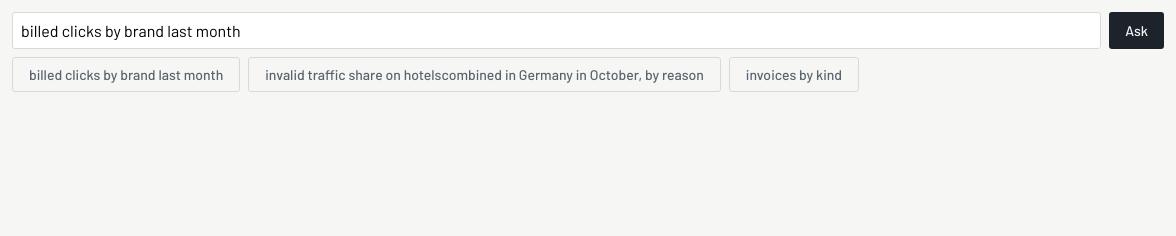
Test: an offline service shows how to start it
Click the button "Ask". click: (1137, 30)
box: 1109,12 -> 1164,49
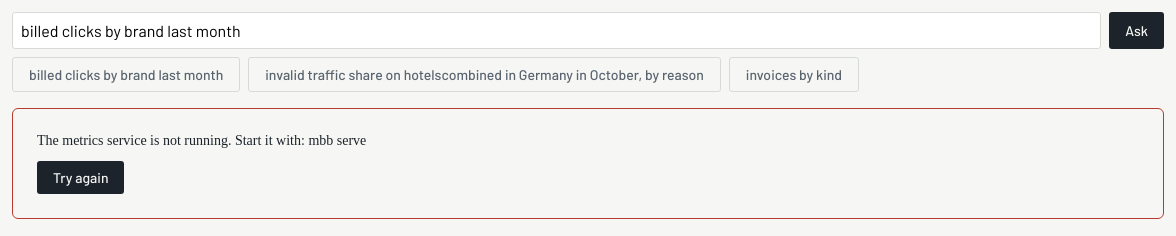
expect the text "The metrics service is not running. Start it with: mbb serve" is shown: met, box 37,133 -> 366,148
